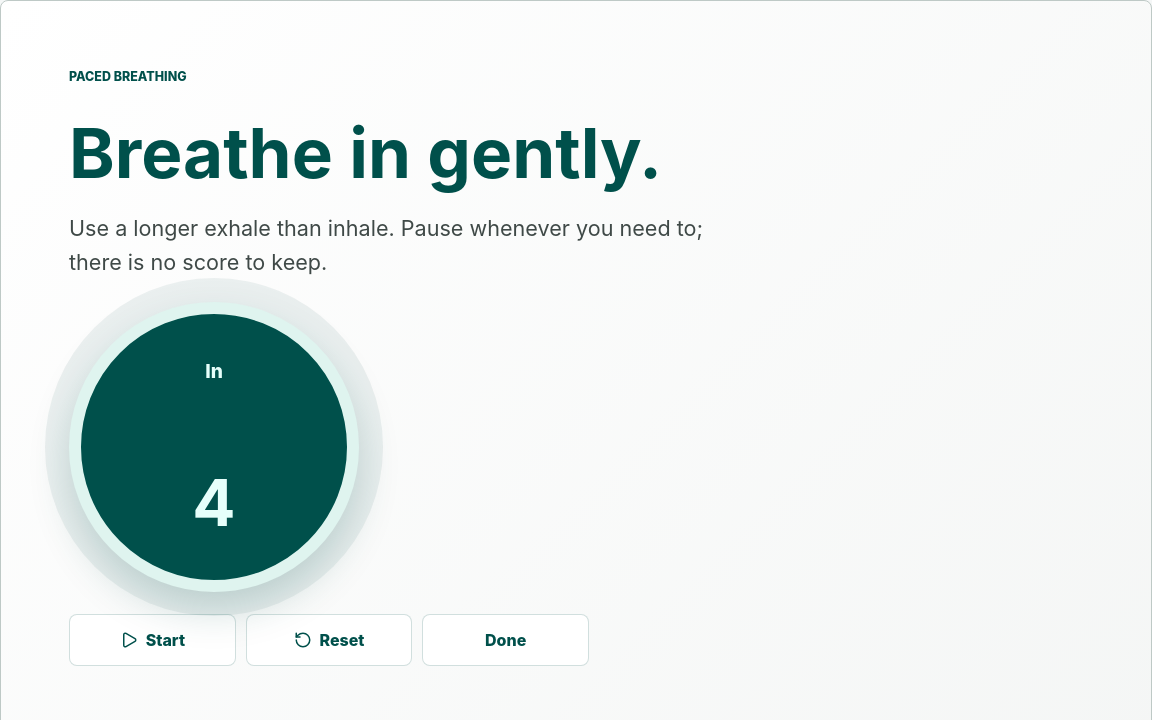
Scenario: BreathingTool › starts, ticks, pauses, and resets
Click the button "Start".
click(152, 640)  # box x1=69 y1=614 x2=236 y2=666
Wait 1000 ms
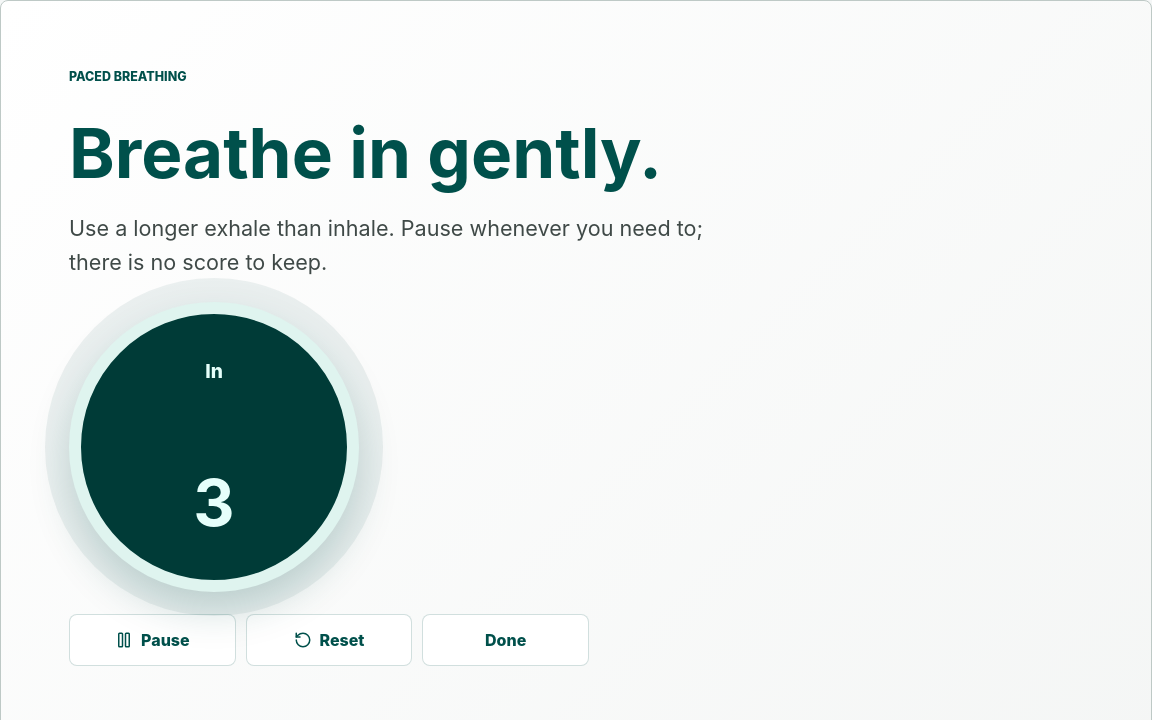
Expected: the button with aria-label "pause breathing timer" shows "3", x1=69 y1=302 x2=359 y2=592
Click the button "Pause".
click(152, 640)  # box x1=69 y1=614 x2=236 y2=666
Wait 2000 ms
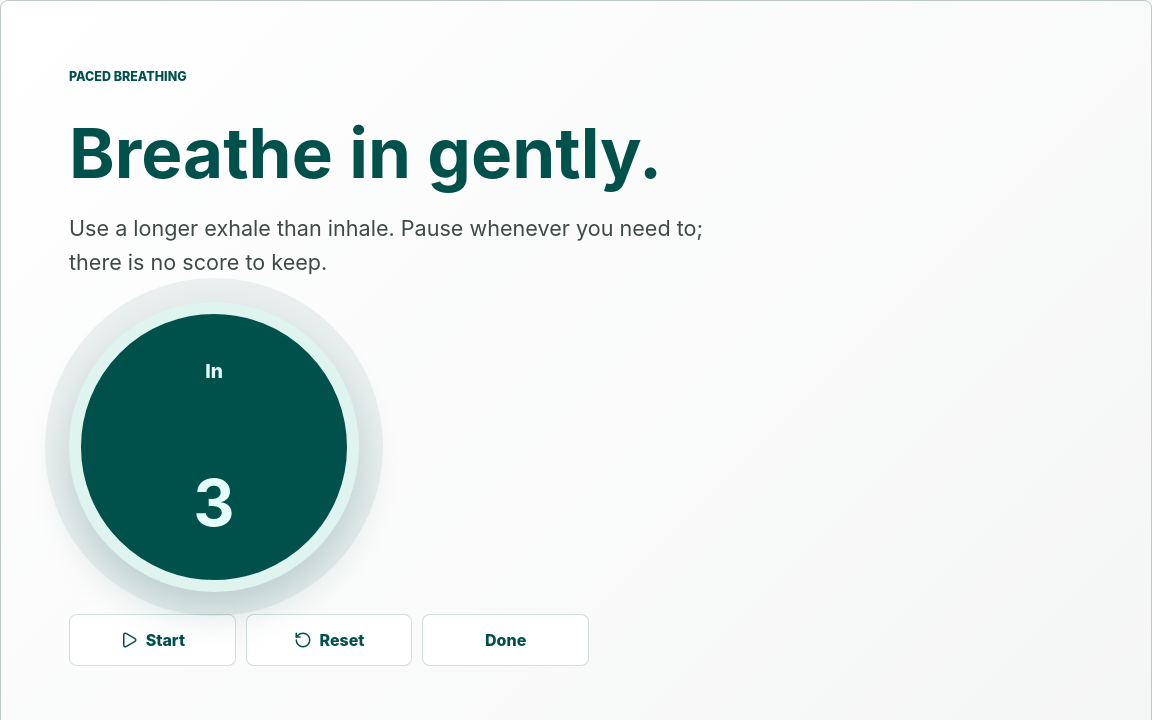
Expected: the button with aria-label "start breathing timer" shows "3", x1=69 y1=302 x2=359 y2=592
Click the button "Reset".
click(329, 640)  # box x1=246 y1=614 x2=412 y2=666
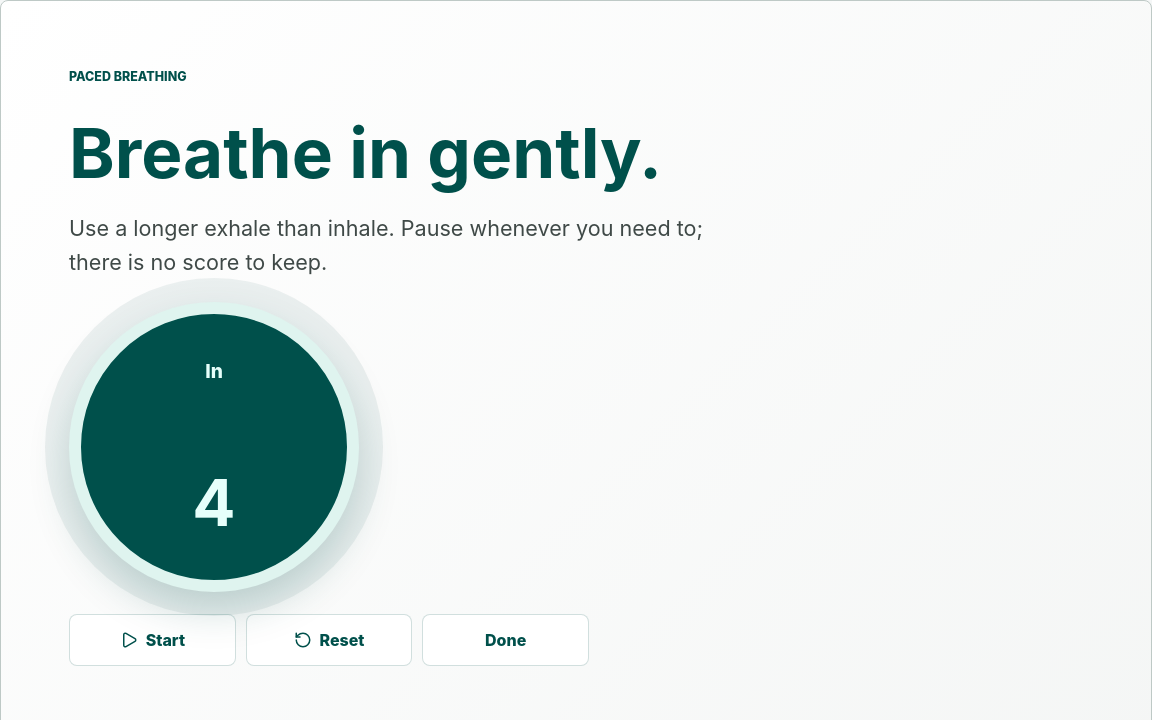
Expected: the button with aria-label "start breathing timer" shows "4", x1=69 y1=302 x2=359 y2=592
